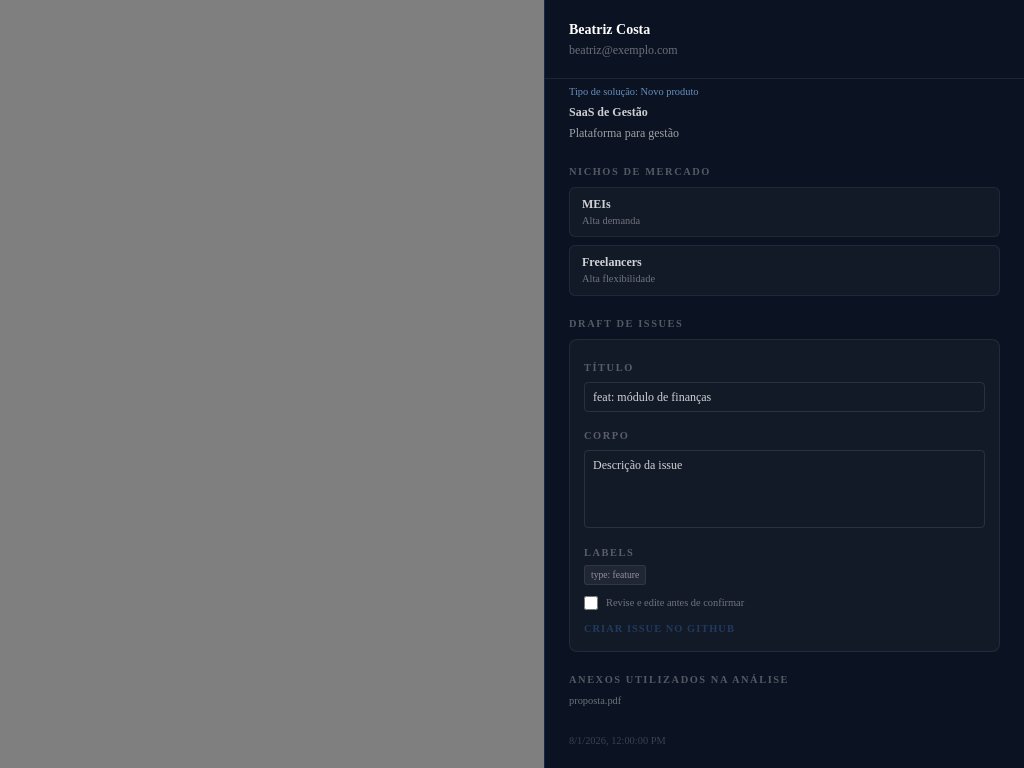
Test: IssueDraftEditor — via ContactDrawer com análise concluída › exibe link 'Issue criada' após criação bem-sucedida
(page scrolled)
Click the checkbox. click: (591, 603)
box: [584,596,598,610]
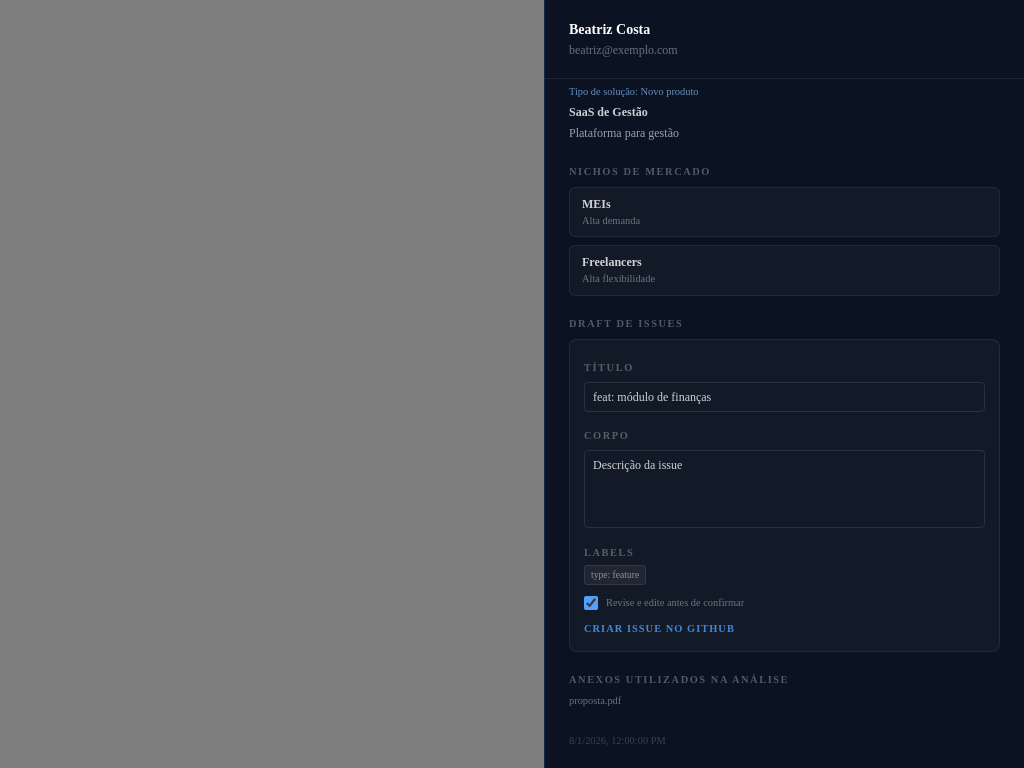
Click the button "Criar issue no GitHub". click: (659, 629)
box: [584,621,735,636]
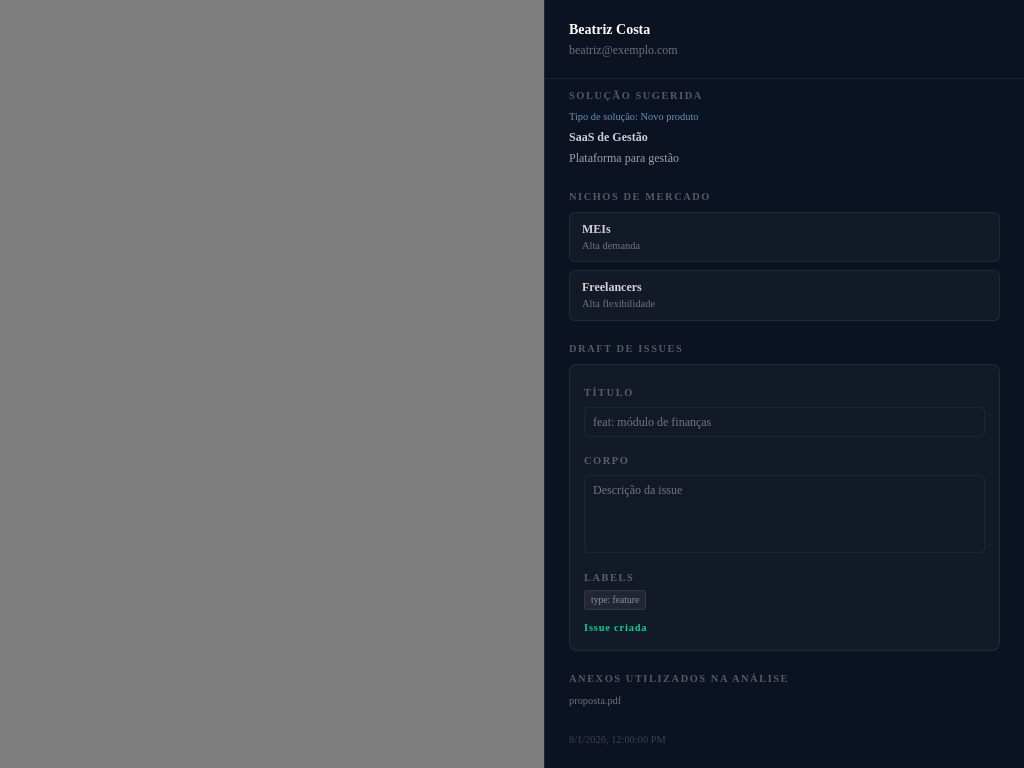
Result: the link "Issue criada" is shown at [584,622,647,633]
